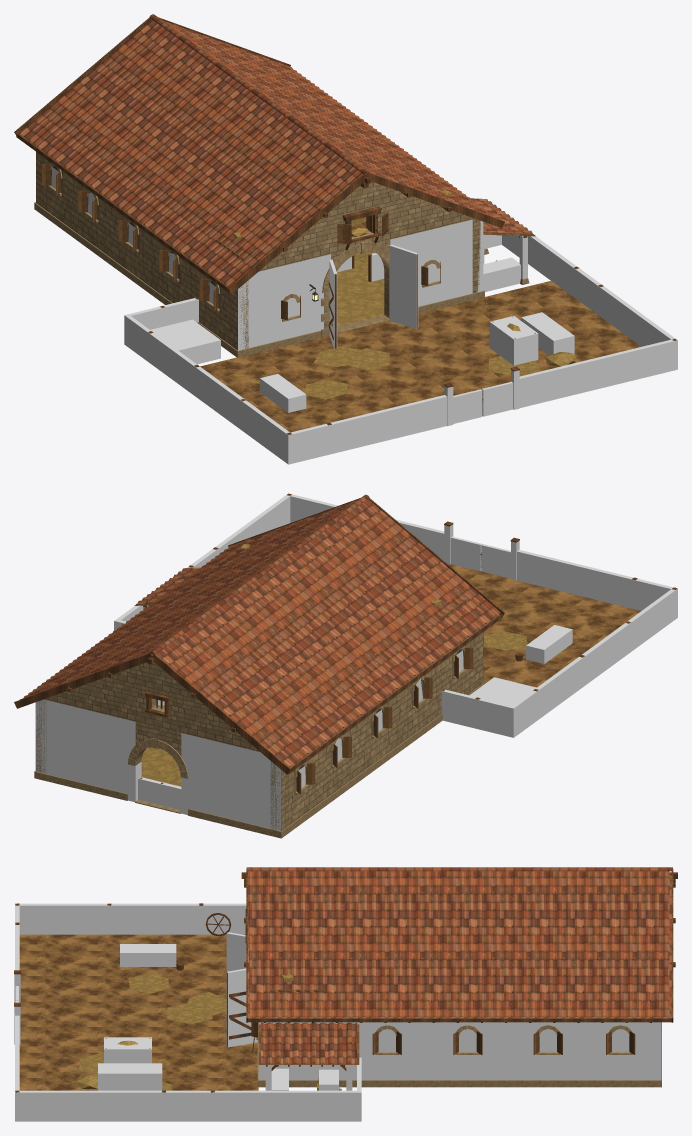
Rendered from barn-v41-lite.glb.
3 views of the same model, one above another, from view 1: azimuth 30°, elevation 25°; view 2: azimuth 150°, elevation 25°; view 3: azimuth 270°, elevation 25° (orthographic).
Visible parts, largest first — view 1: mesh_roof_tiles, mesh_yard_ground, mesh_stone_block, mesh_stone, mesh_straw, mesh_wood, col_fence_2, col_wall_front_l, col_fence_0, col_fence_1, col_fence_4, col_wall_front_r (+11 smaller); view 2: mesh_roof_tiles, mesh_stone_block, mesh_yard_ground, mesh_stone, col_wall_back_r, col_wall_back_l, col_fence_2, mesh_wood, col_fence_0, col_fence_3, mesh_straw, mesh_wood_light (+9 smaller); view 3: mesh_roof_tiles, mesh_yard_ground, col_wall_right, col_fence_4, col_fence_2, mesh_stone_block, mesh_wood, mesh_straw, mesh_wood_light, col_crib_bales, col_door_barn_r, col_yard_trough (+5 smaller).
Boxes of the visible parts, left/top/right/bottom form: mesh_roof_tiles: left=19, top=14, right=532, bottom=287; mesh_yard_ground: left=200, top=281, right=641, bottom=432; mesh_stone_block: left=34, top=152, right=529, bottom=357; mesh_stone: left=238, top=173, right=480, bottom=348; mesh_straw: left=233, top=189, right=576, bottom=399; mesh_wood: left=14, top=17, right=676, bottom=434; col_fence_2: left=126, top=316, right=292, bottom=464; col_wall_front_l: left=248, top=254, right=330, bottom=347; col_fence_0: left=286, top=395, right=447, bottom=463; col_fence_1: left=519, top=338, right=677, bottom=407; col_fence_4: left=502, top=235, right=677, bottom=370; col_wall_front_r: left=390, top=219, right=472, bottom=306; mesh_roof_tiles: left=20, top=494, right=500, bottom=768; mesh_stone_block: left=34, top=632, right=484, bottom=838; mesh_yard_ground: left=448, top=564, right=640, bottom=687; mesh_stone: left=36, top=654, right=280, bottom=829; col_wall_back_r: left=46, top=700, right=141, bottom=801; col_wall_back_l: left=181, top=733, right=270, bottom=828; col_fence_2: left=512, top=588, right=677, bottom=735; mesh_wood: left=14, top=493, right=677, bottom=783; col_fence_0: left=517, top=550, right=677, bottom=618; col_fence_3: left=441, top=689, right=516, bottom=737; mesh_straw: left=141, top=544, right=527, bottom=786; mesh_wood_light: left=134, top=545, right=523, bottom=794; mesh_roof_tiles: left=246, top=867, right=672, bottom=1064; mesh_yard_ground: left=19, top=934, right=258, bottom=1090; col_wall_right: left=258, top=1022, right=660, bottom=1080; col_fence_4: left=19, top=1090, right=356, bottom=1121; col_fence_2: left=15, top=903, right=246, bottom=934; mesh_stone_block: left=256, top=1022, right=661, bottom=1087; mesh_wood: left=14, top=869, right=677, bottom=1092; mesh_straw: left=76, top=972, right=341, bottom=1090; mesh_wood_light: left=176, top=909, right=635, bottom=1064; col_crib_bales: left=98, top=1063, right=162, bottom=1090; col_door_barn_r: left=226, top=968, right=257, bottom=1047; col_yard_trough: left=120, top=944, right=176, bottom=966.
Bounding box in the file's own units: 22.24 × 8.79 × 33.02.
12 materials, 10 textured.
